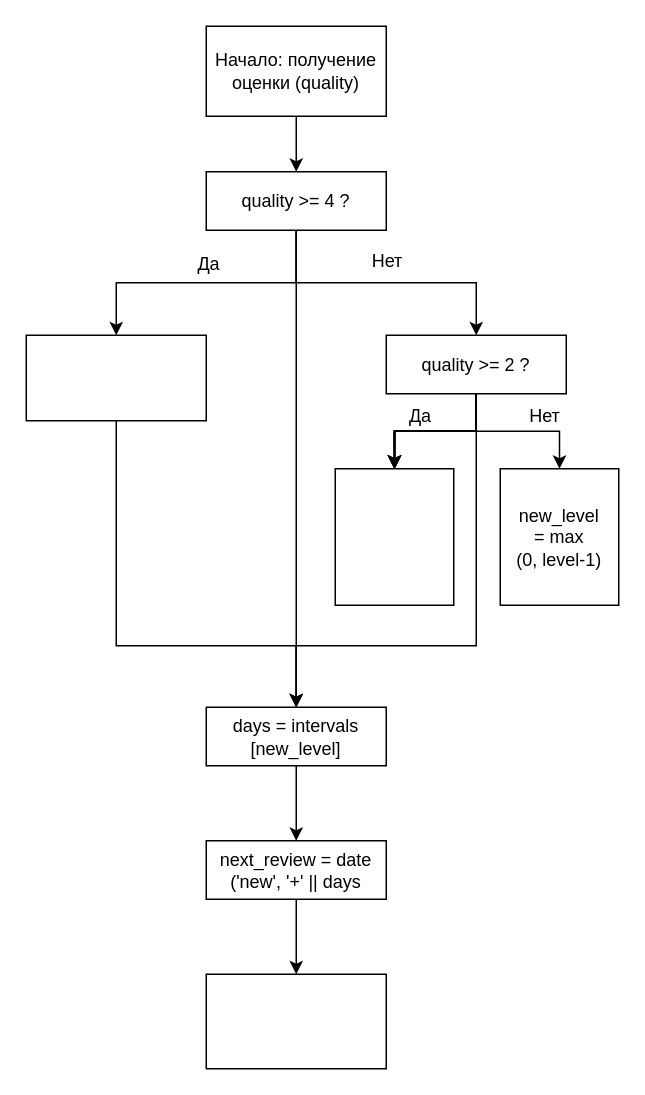
This 645x1095 diagram has some shape labels left out. Here are the shapes that lost their labels. From the top down, the box of each, then its label:
(25, 334, 206, 421): new_level = min (5, level+1)
(334, 467, 454, 605): new_level = level (без изм.)
(205, 973, 386, 1069): UPDATE words SET level = new_level, next_review = ...
